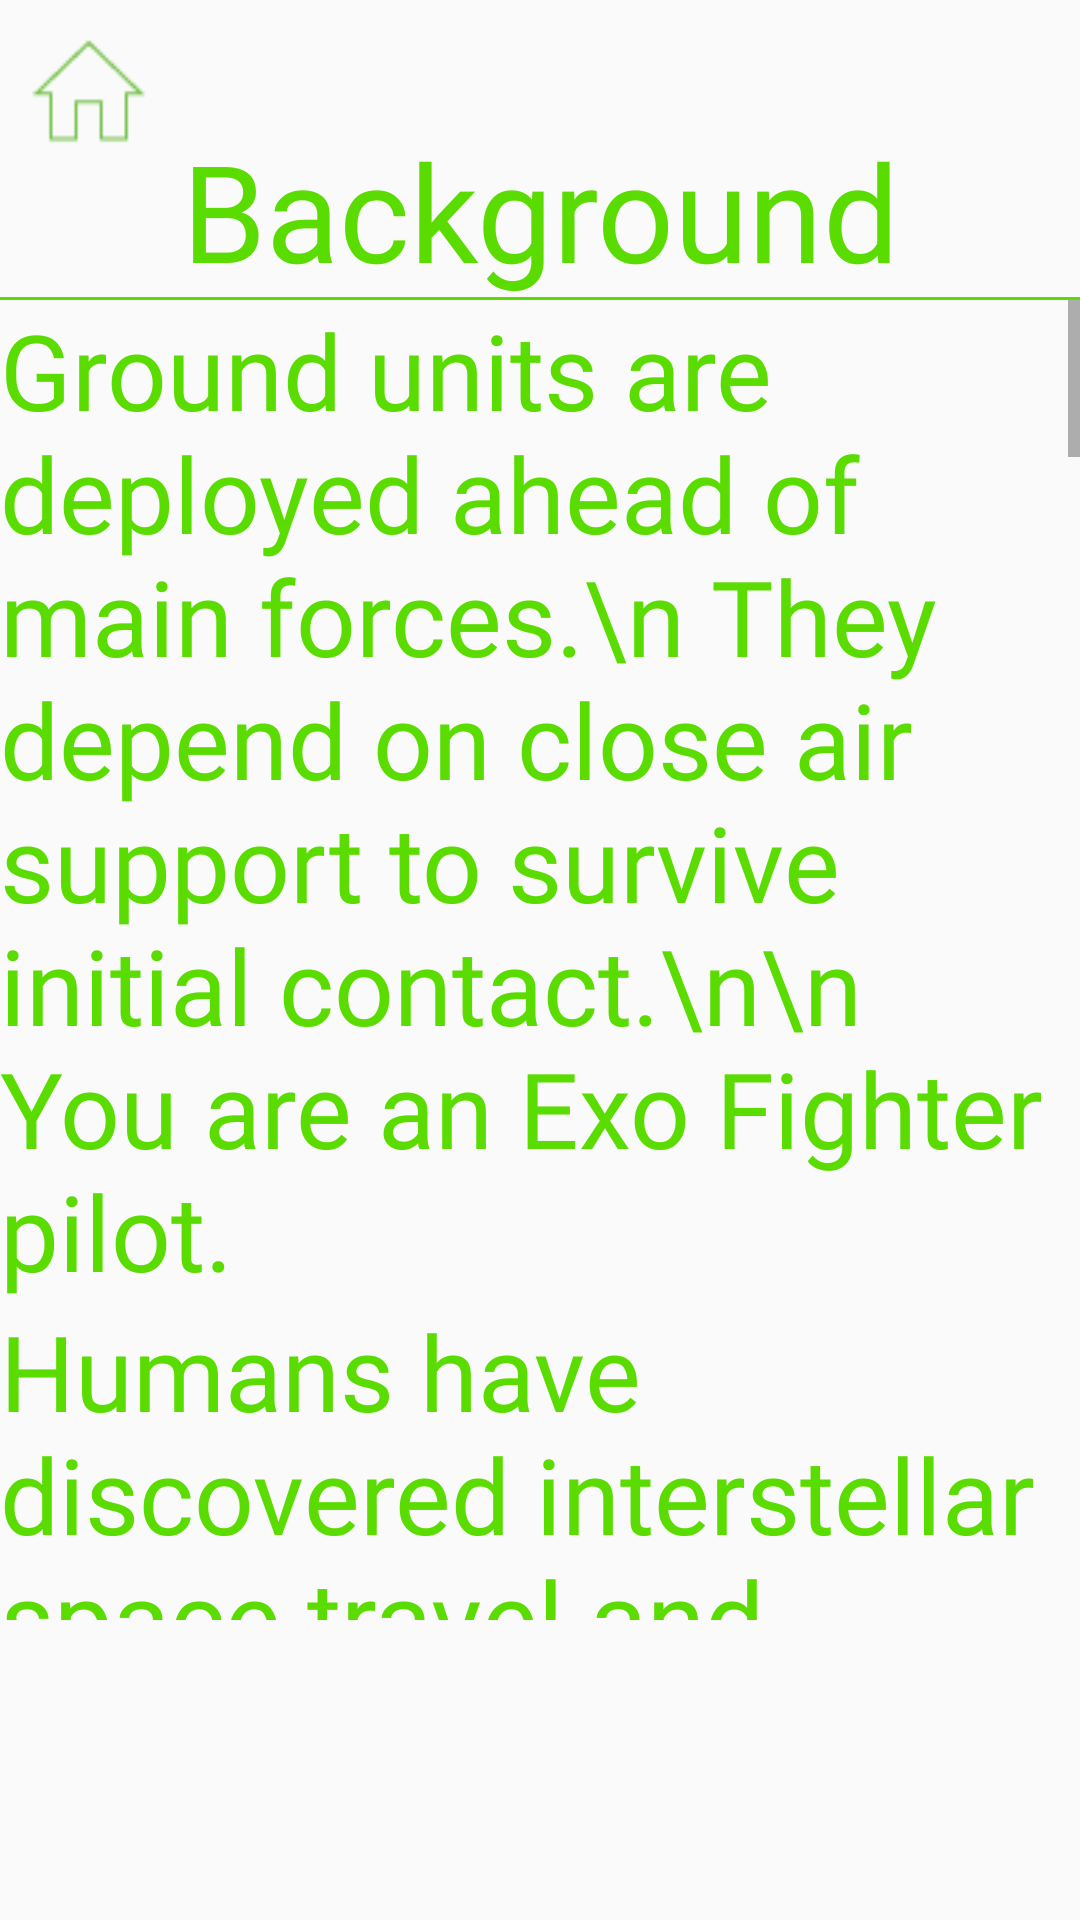

Icon bounding boxes for this 1080w x 1920h phone screenshot, format (x1, y1, x2, y2):
home: (32, 40, 145, 142)
